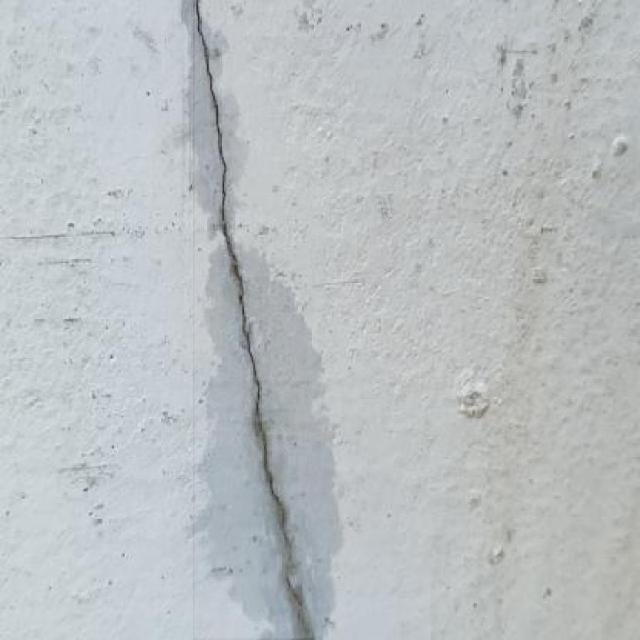diagonal crack: (195, 1, 311, 638)
